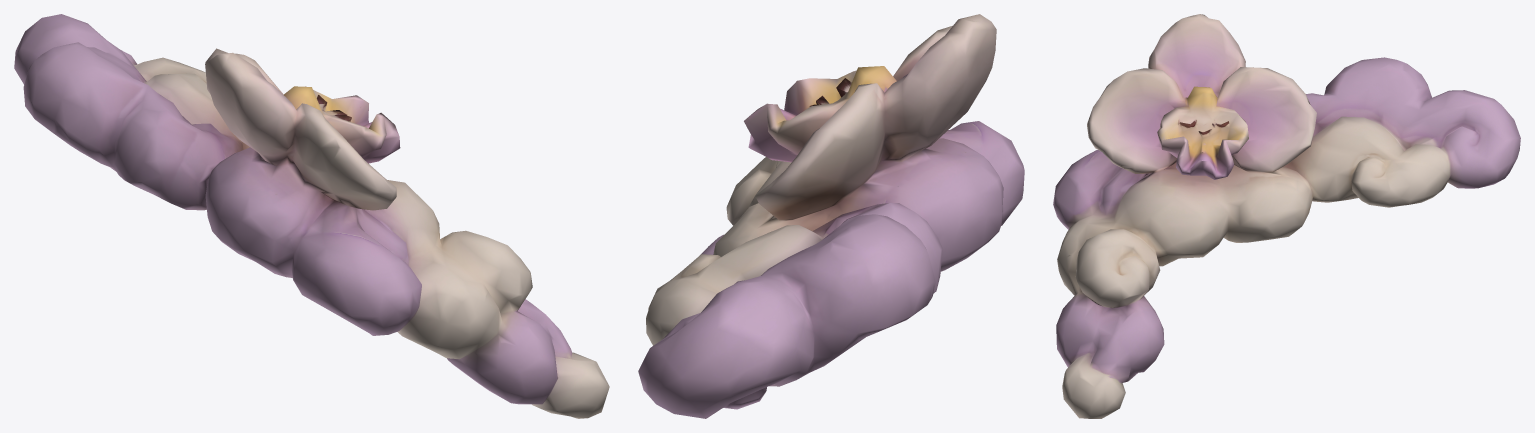
The model's file is frame-orchid.glb.
3 views of the same model, side by side, from view 1: azimuth 30°, elevation 25°; view 2: azimuth 150°, elevation 25°; view 3: azimuth 270°, elevation 25° (orthographic). The views are drawn at different scales.
Parts seen in each view (by area): view 1: tripo_node_115a4214-222f-4191-a395-4c99a9cf1e48; view 2: tripo_node_115a4214-222f-4191-a395-4c99a9cf1e48; view 3: tripo_node_115a4214-222f-4191-a395-4c99a9cf1e48.
Part boxes in pixels (x1,y1,x2,y2): tripo_node_115a4214-222f-4191-a395-4c99a9cf1e48: [14, 14, 609, 418]; tripo_node_115a4214-222f-4191-a395-4c99a9cf1e48: [638, 14, 1024, 418]; tripo_node_115a4214-222f-4191-a395-4c99a9cf1e48: [1053, 14, 1520, 418].
Bounding box in the file's own units: 0.7392 × 0.6949 × 1.
Materials: 1 (1 with a texture image).
